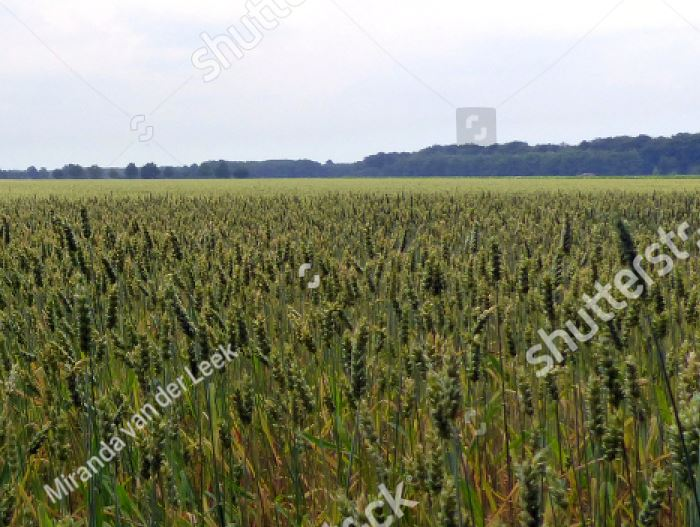Wheat: (74, 198, 506, 461)
